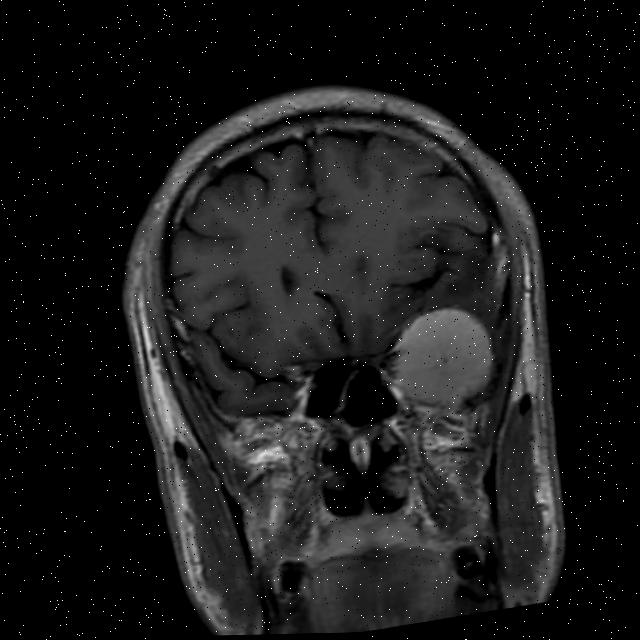Meningioma: (380, 299, 501, 412)
